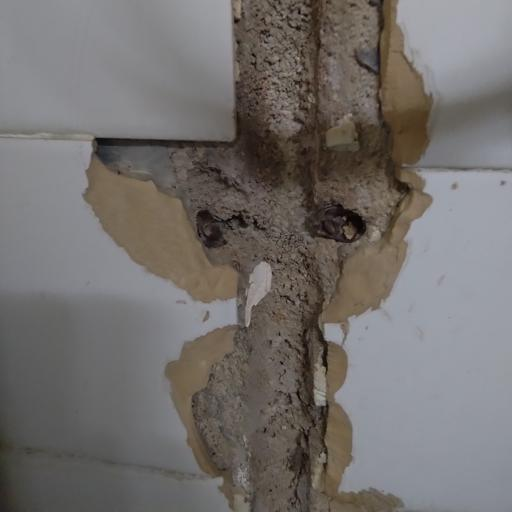spalling: (81, 0, 424, 512)
